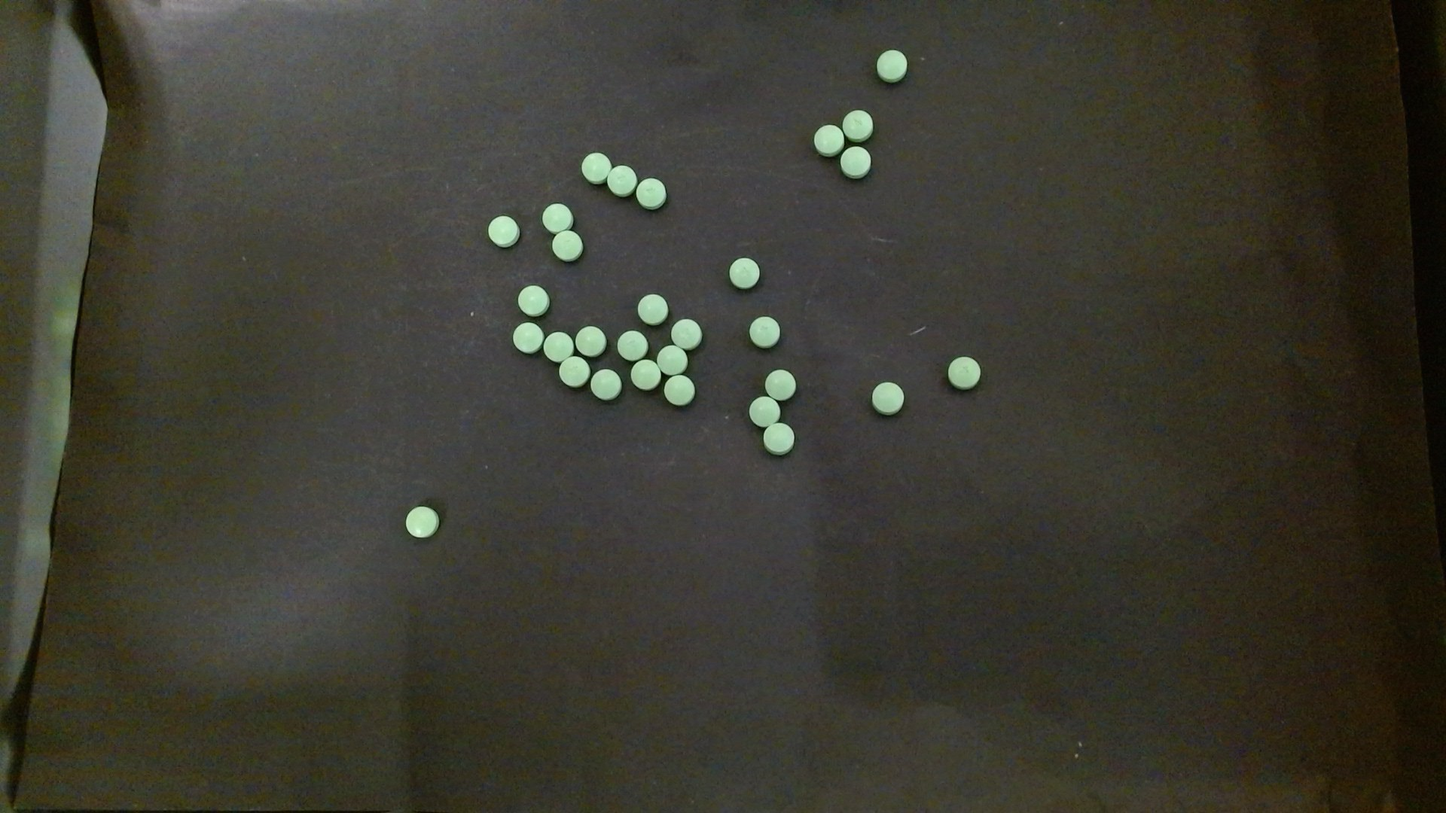Circle: (404, 503, 443, 540), (945, 355, 982, 391), (875, 48, 908, 83), (871, 382, 904, 414), (764, 368, 796, 400), (813, 123, 845, 155), (763, 422, 794, 455), (559, 355, 590, 388), (575, 325, 606, 357), (840, 146, 871, 178), (513, 321, 544, 353), (842, 109, 873, 141), (581, 151, 611, 184), (590, 369, 621, 400), (636, 294, 667, 325), (670, 318, 701, 349), (657, 345, 688, 376), (728, 257, 759, 288), (517, 285, 548, 316), (636, 178, 667, 209), (749, 396, 779, 428), (749, 316, 779, 348), (664, 375, 694, 406), (552, 230, 582, 261), (542, 202, 572, 233), (631, 359, 660, 391), (607, 164, 636, 196), (543, 331, 572, 362), (488, 215, 517, 246), (618, 330, 647, 360)
